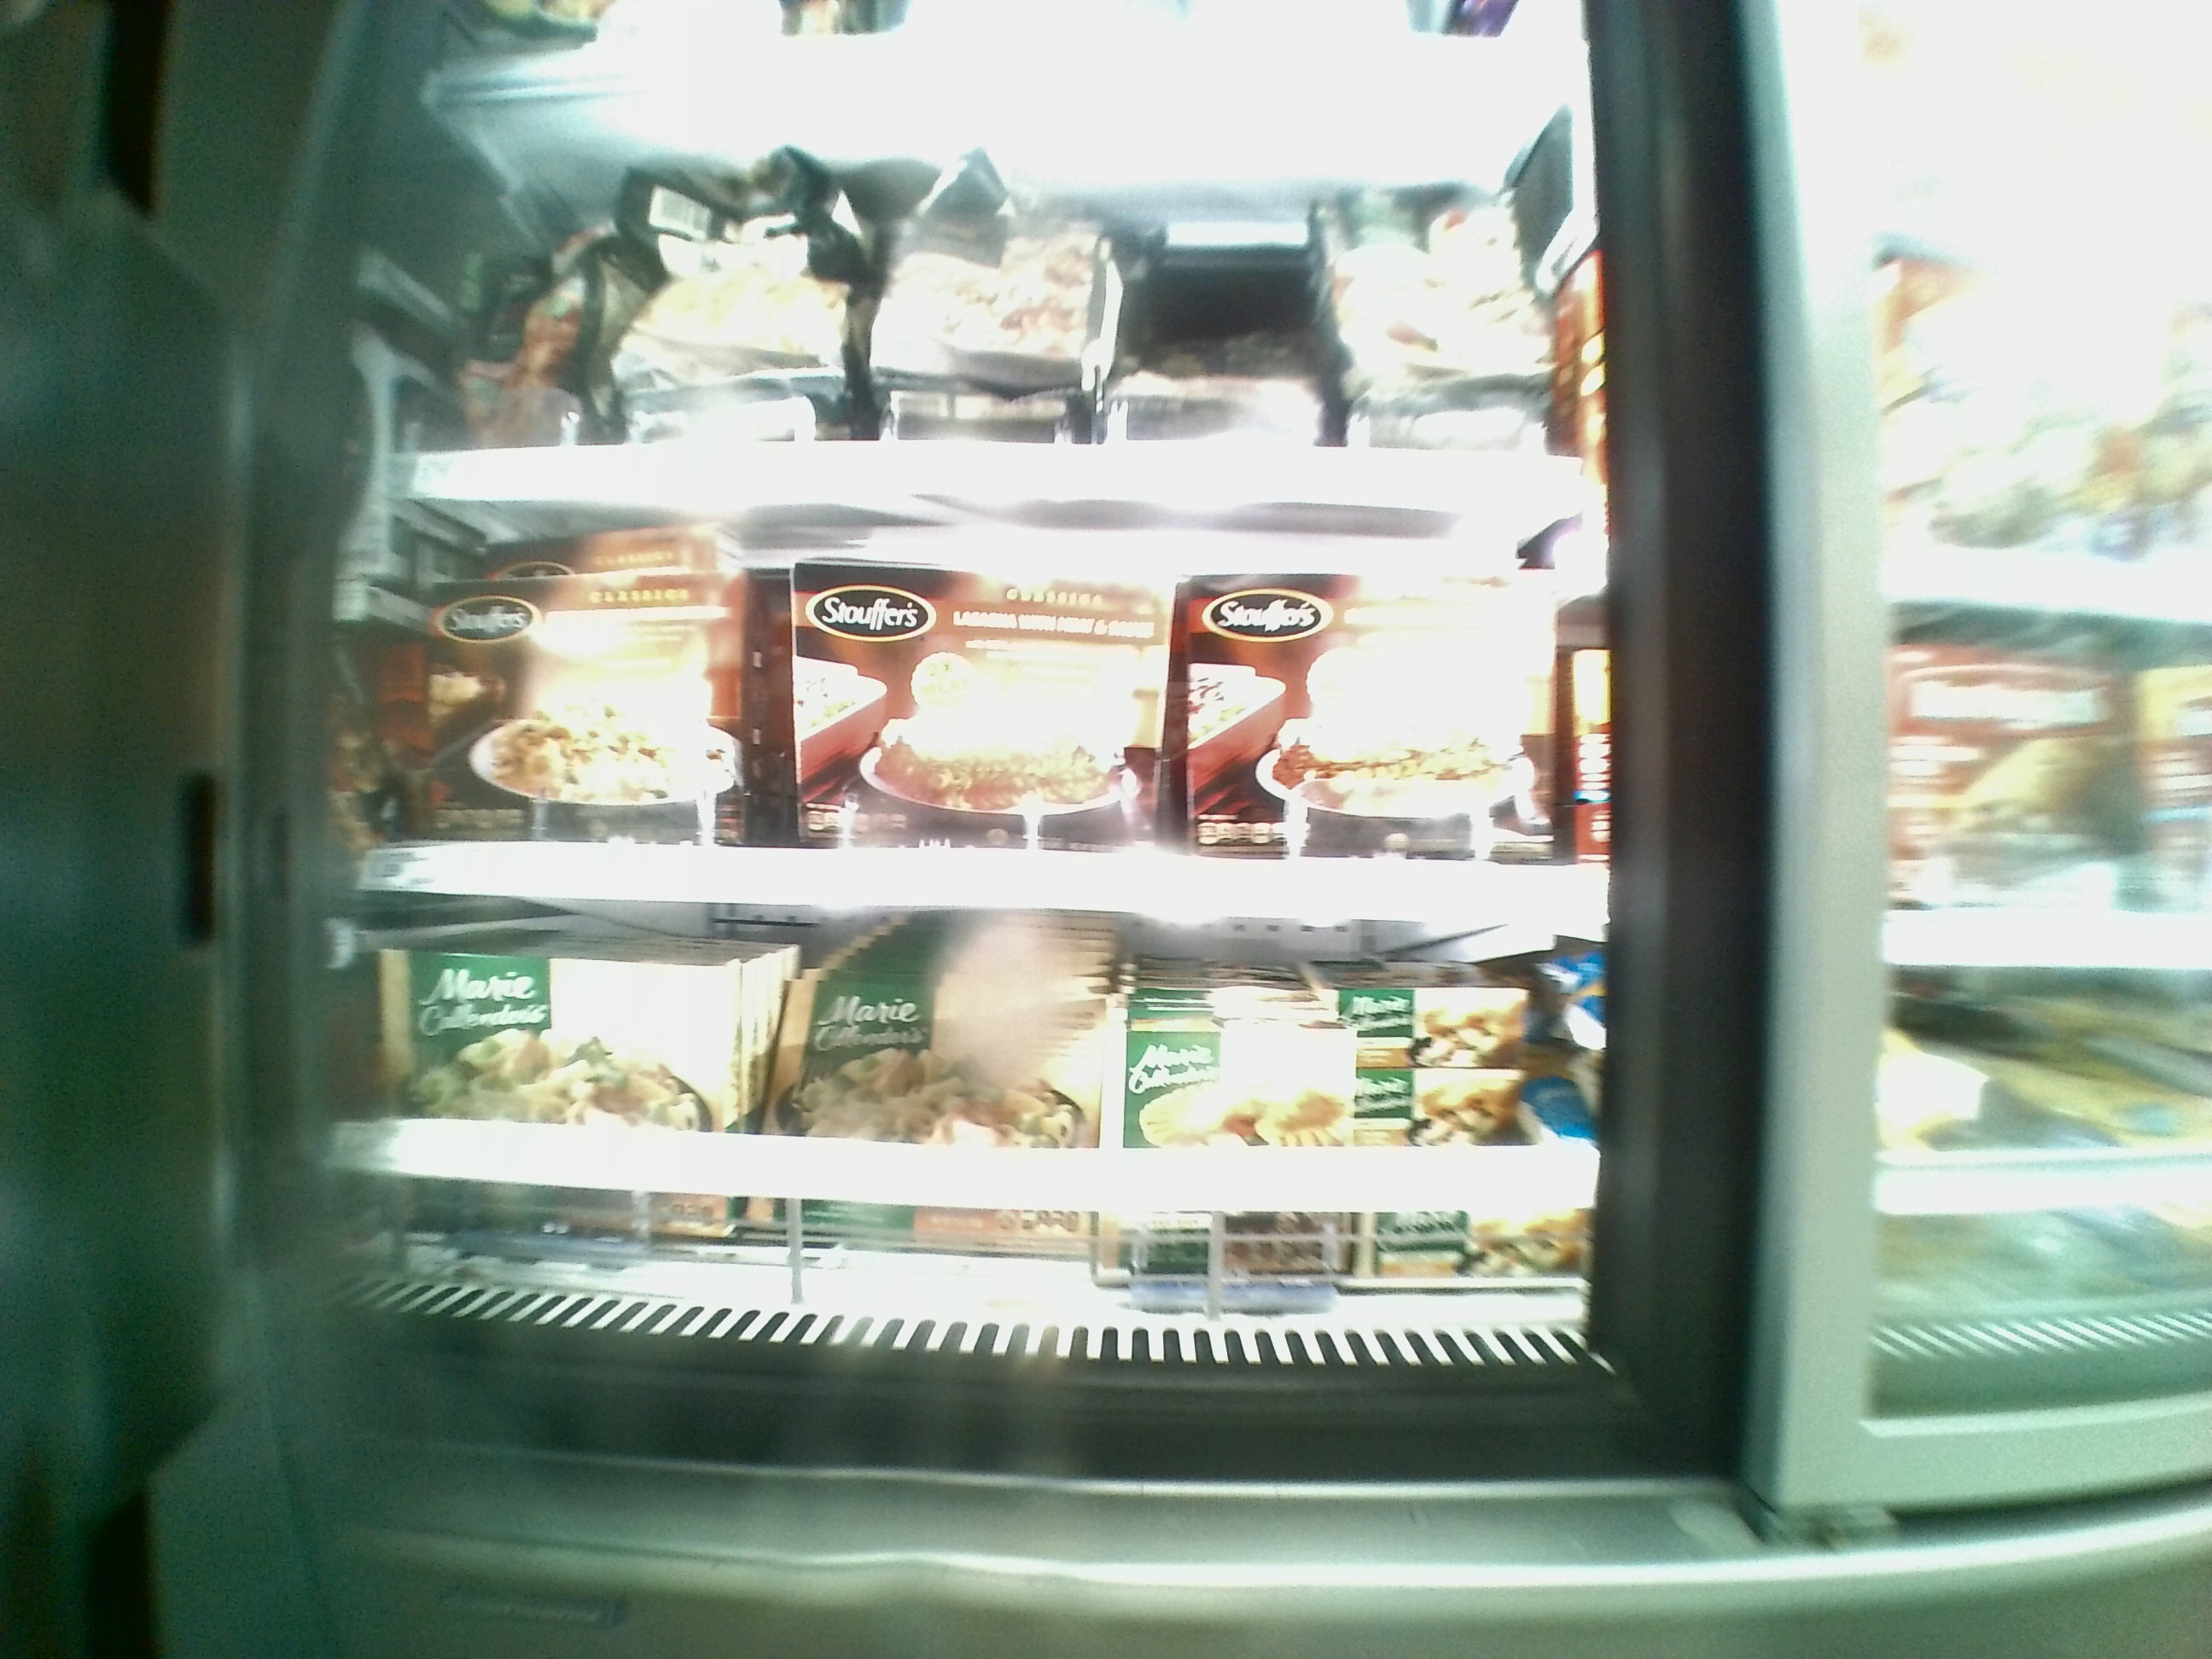shelf: (361, 897, 1587, 1321), (387, 498, 1588, 929), (402, 94, 1576, 507)
